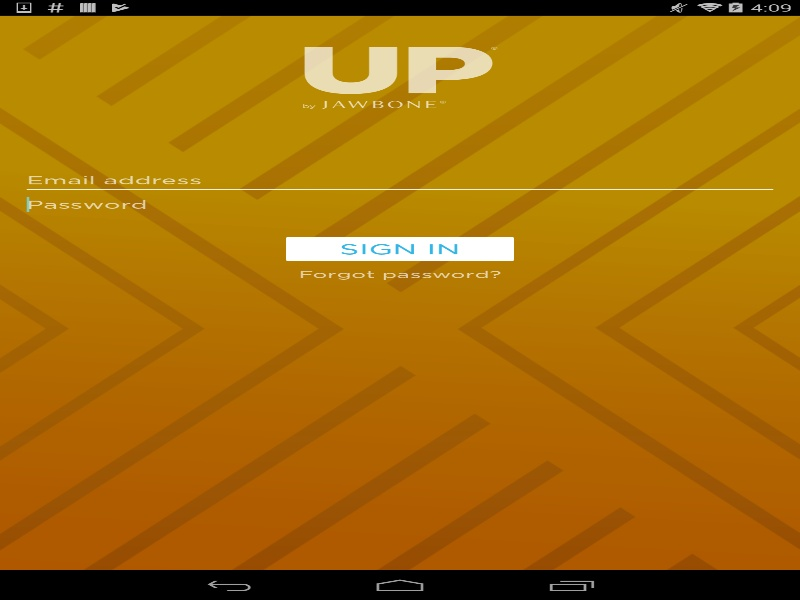Input: (26, 172, 773, 187), (26, 196, 773, 211)
